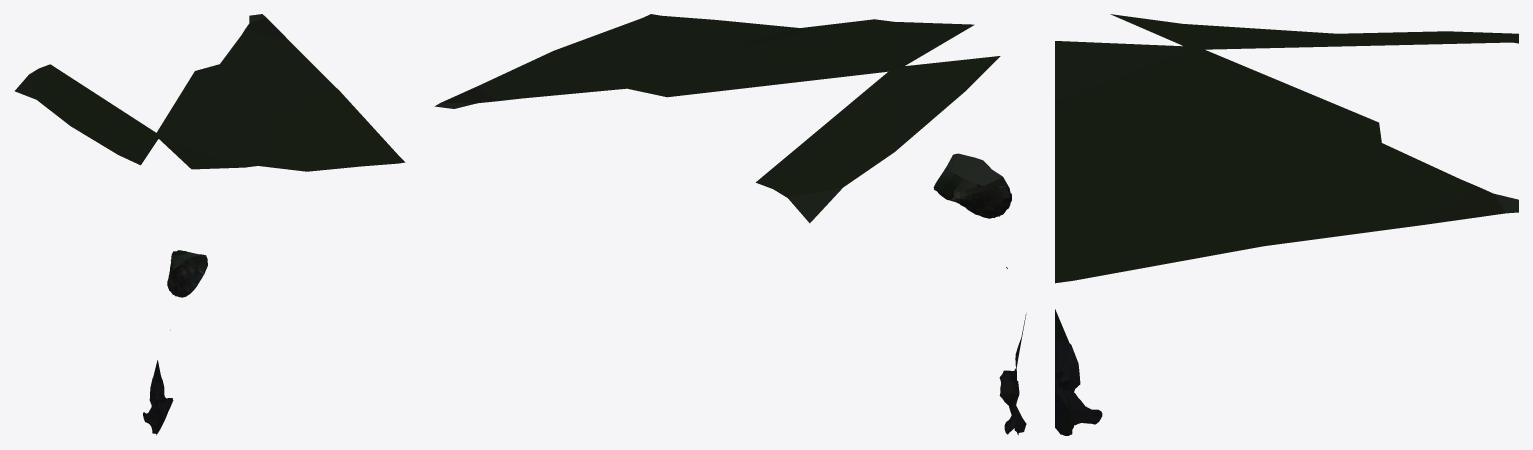
The picture shows the model from 3 angles, left to right: view 1: azimuth 30°, elevation 25°; view 2: azimuth 150°, elevation 25°; view 3: azimuth 270°, elevation 25°; orthographic projection. The views are drawn at different scales.
Size of the model in its own units: 0.983 by 0.983 by 0.983.
1 material, 1 textured.
